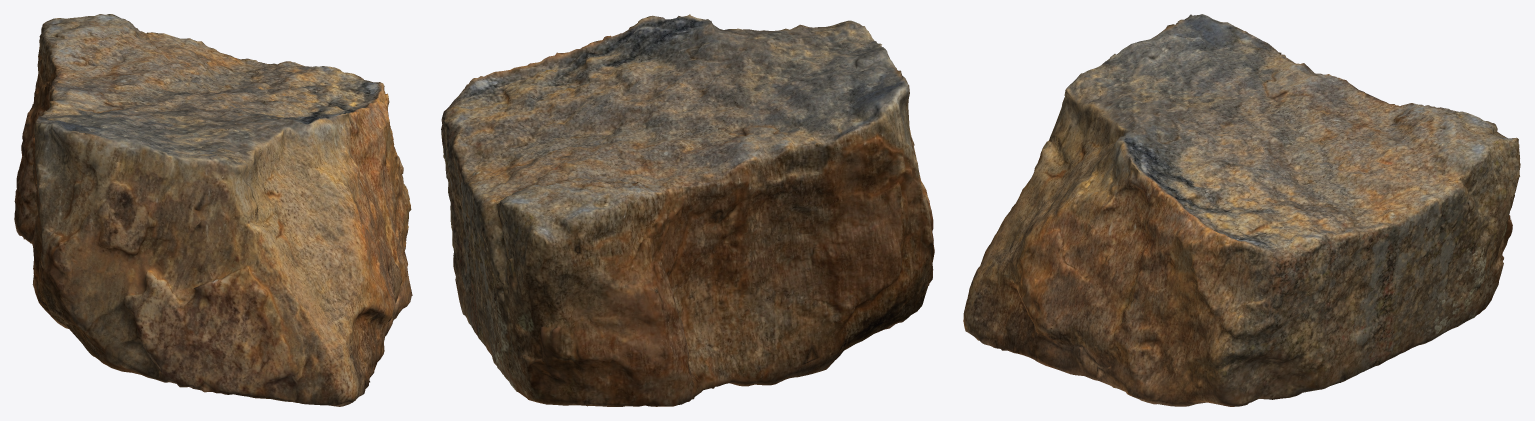
File: namaqualand_boulder_03_ice.glb
3 renders of one model, left to right at view 1: azimuth 30°, elevation 25°; view 2: azimuth 150°, elevation 25°; view 3: azimuth 270°, elevation 25°, orthographic. The views are drawn at different scales.
Parts seen in each view (by area): view 1: boulder_03_LOD0; view 2: boulder_03_LOD0; view 3: boulder_03_LOD0.
Part boxes in pixels (bbox=[...]): boulder_03_LOD0: bbox=[14, 14, 412, 406]; boulder_03_LOD0: bbox=[441, 14, 934, 406]; boulder_03_LOD0: bbox=[963, 14, 1520, 406].
Size of the model in its own units: 2.41 by 1.47 by 3.07.
1 material, 1 textured.
